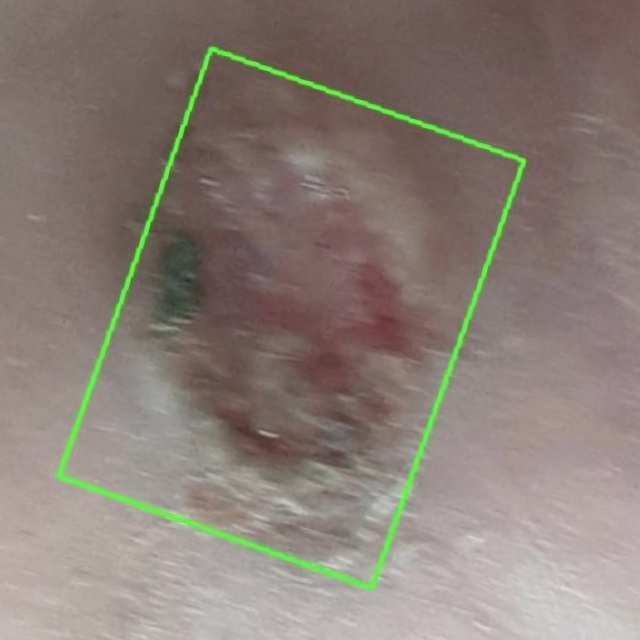Eczema: (59, 47, 525, 588)
